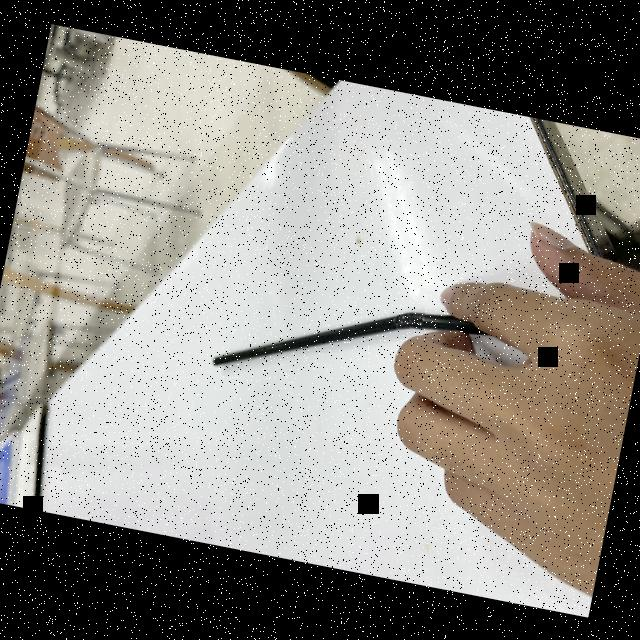straw: (207, 265, 498, 416)
